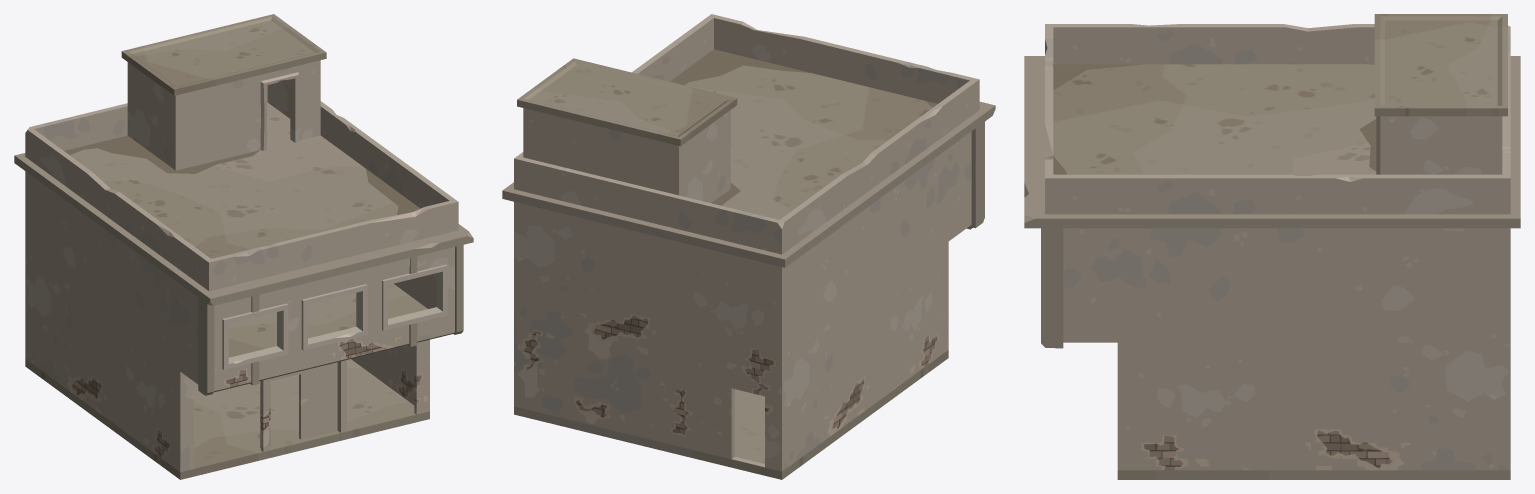
The model's file is SM_Bld_Shop_11.glb.
3 renders of one model, left to right at view 1: azimuth 30°, elevation 25°; view 2: azimuth 150°, elevation 25°; view 3: azimuth 270°, elevation 25°, orthographic. The views are drawn at different scales.
Visible parts, largest first — view 1: SM_Bld_Shop_11; view 2: SM_Bld_Shop_11; view 3: SM_Bld_Shop_11.
Boxes of the visible parts, x1,y1,x2,y2 form: SM_Bld_Shop_11: [14, 14, 473, 479]; SM_Bld_Shop_11: [502, 14, 995, 479]; SM_Bld_Shop_11: [1024, 14, 1520, 479].
Bounding box in the file's own units: 9.45 × 10.05 × 12.2.
Materials: 1 (1 with a texture image).
